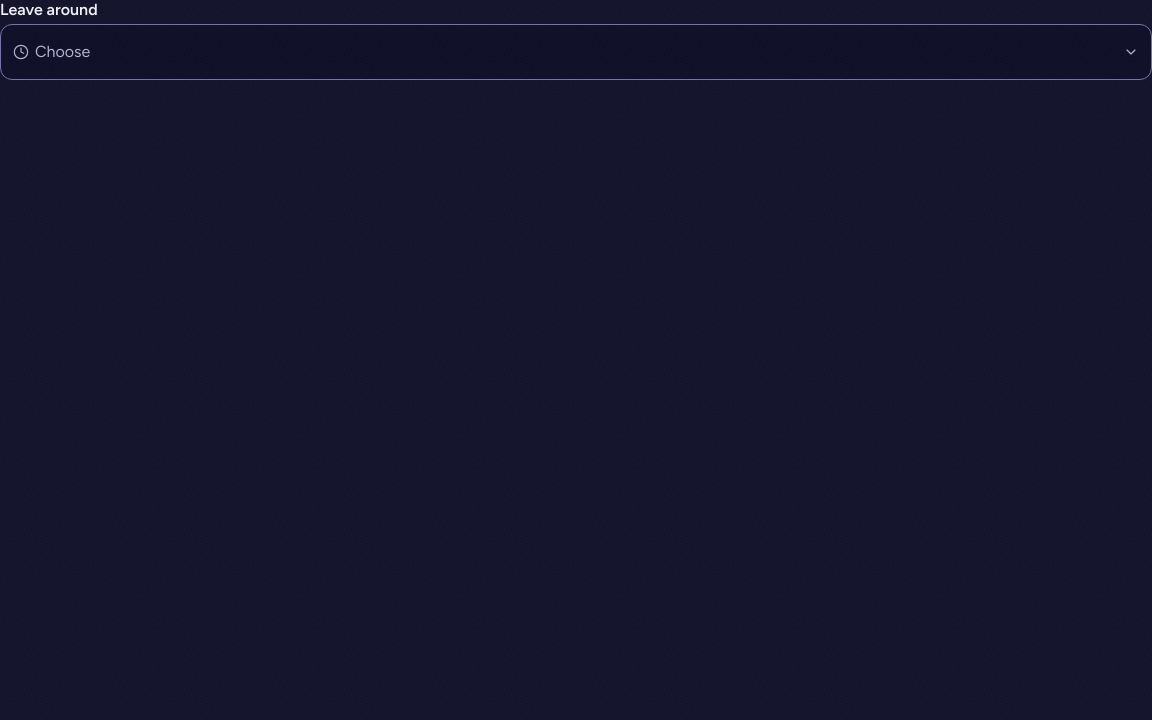
Test: TimePicker › disables everything and "Set" when the day is over (24:00)
Step 1. Click the button named "Leave around" → (63, 52), box [0,24,1151,80]
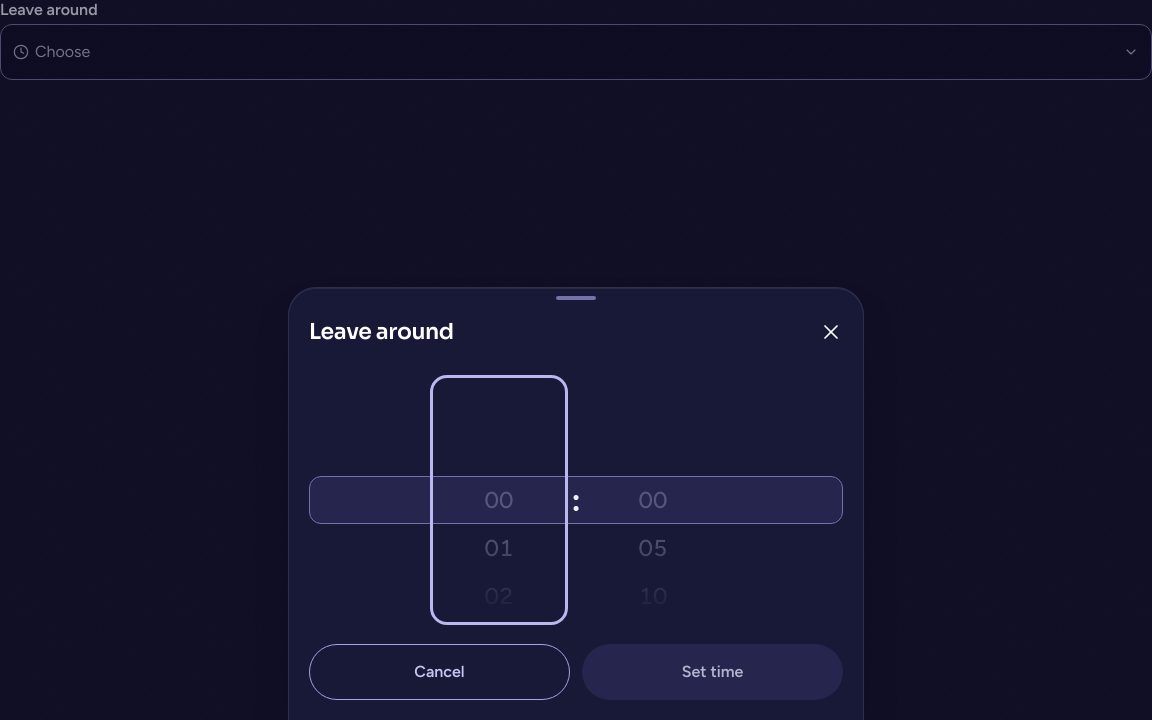
Now the button "Set time" is disabled, box [582,644,843,700]
